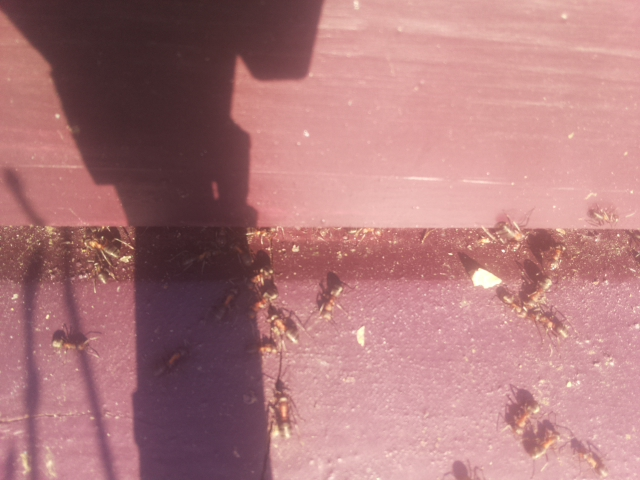ant: (0, 163, 50, 230), (501, 388, 546, 438), (146, 340, 196, 383), (568, 437, 613, 480), (41, 326, 102, 357), (266, 389, 298, 448), (492, 279, 532, 324), (314, 277, 348, 327), (264, 308, 305, 347), (523, 426, 567, 461), (533, 305, 572, 343), (498, 216, 530, 254), (209, 284, 238, 323), (444, 455, 474, 480), (528, 276, 552, 302), (591, 206, 613, 227)
